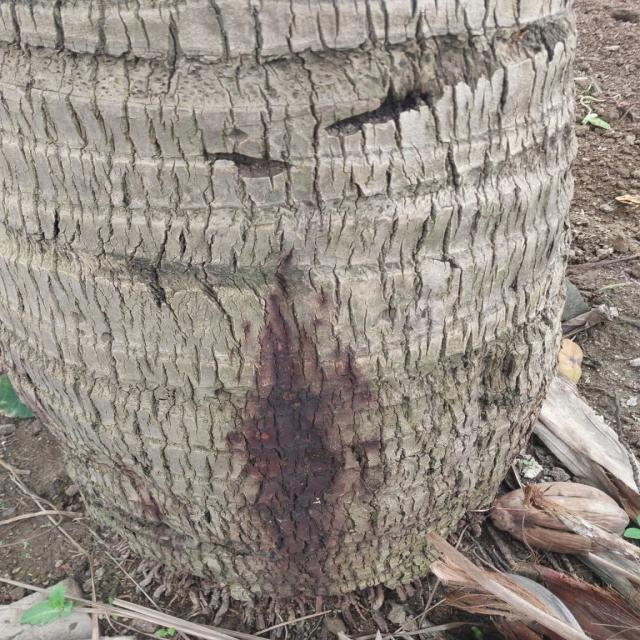stembleeding: (129, 218, 437, 590)
